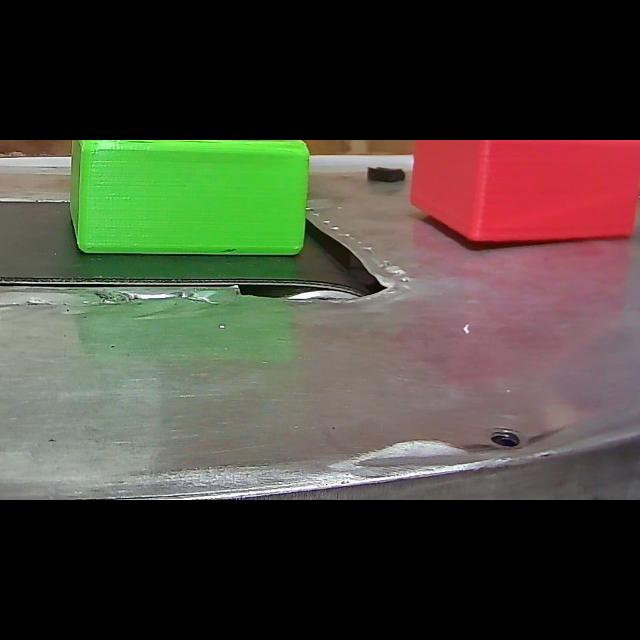greenBox: (60, 140, 326, 270)
redBox: (406, 140, 640, 256)
